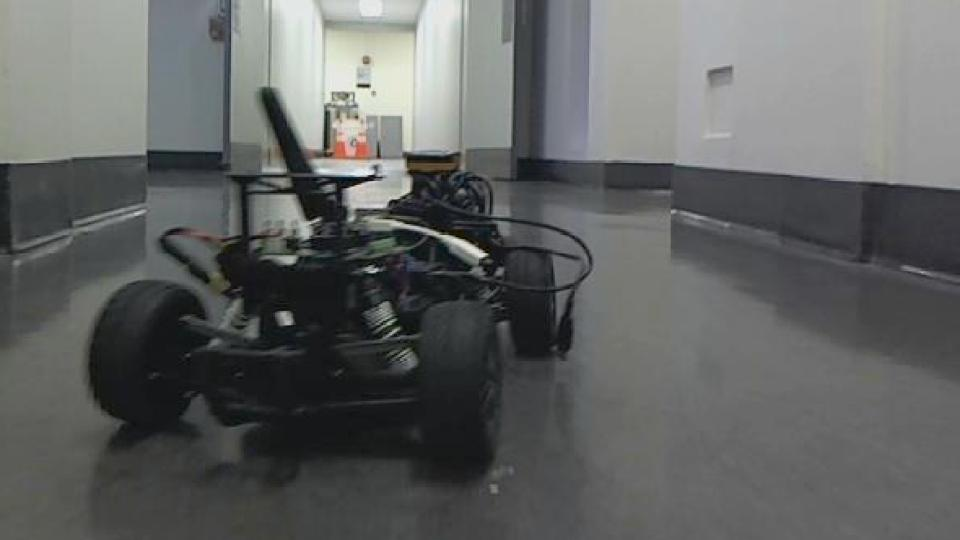car: (88, 73, 602, 466)
